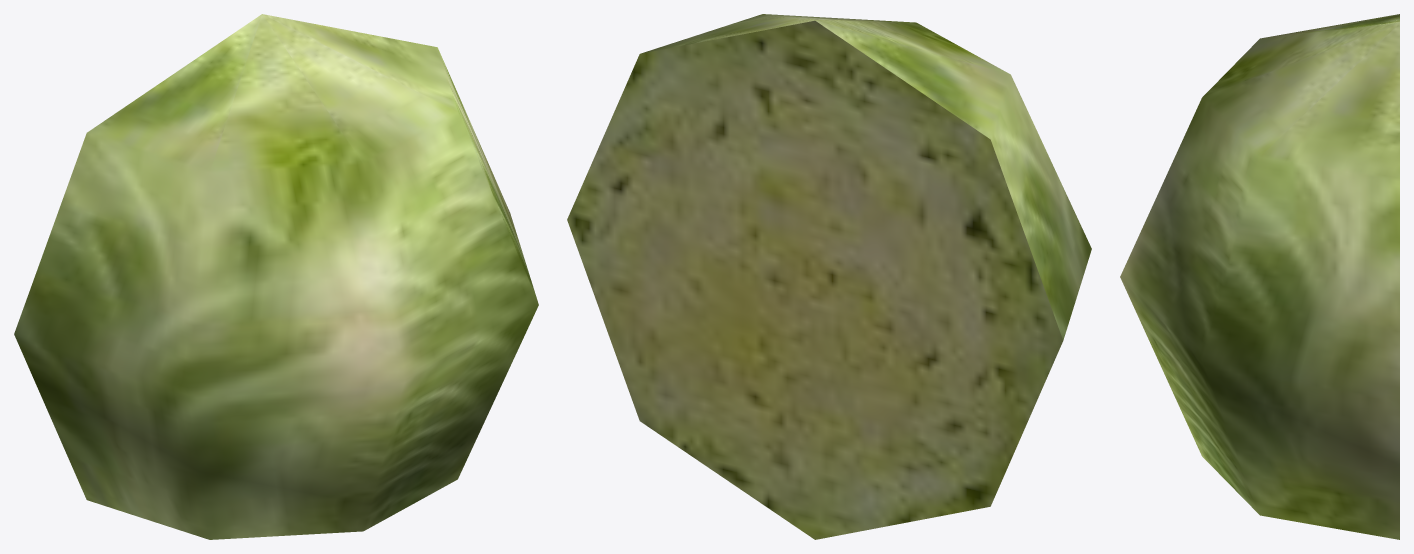
The model's file is Cabbage_01.glb.
3 views of the same model, side by side, from view 1: azimuth 30°, elevation 25°; view 2: azimuth 150°, elevation 25°; view 3: azimuth 270°, elevation 25° (orthographic). The views are drawn at different scales.
Parts seen in each view (by area): view 1: Cabbage_01; view 2: Cabbage_01; view 3: Cabbage_01.
Part boxes in pixels (bbox=[...]): Cabbage_01: bbox=[14, 14, 538, 539]; Cabbage_01: bbox=[567, 14, 1091, 539]; Cabbage_01: bbox=[1120, 14, 1399, 539].
Size of the model in its own units: 0.3405 by 0.3405 by 0.1703.
1 material, 1 textured.
